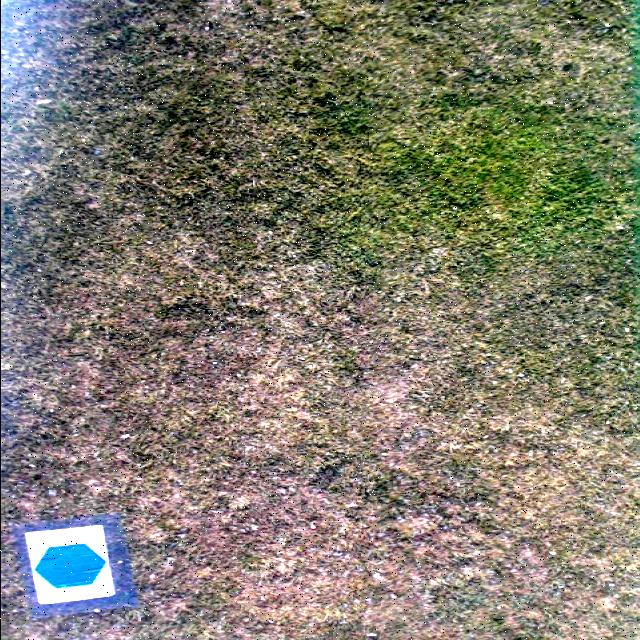blue_hexagon: (30, 544, 110, 587)
